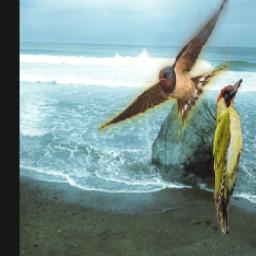Swallow: (99, 0, 231, 140)
Woodpecker: (212, 79, 247, 234)
